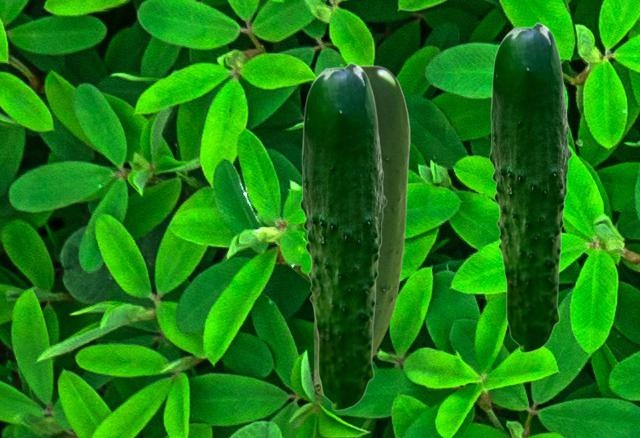cucumber: (313, 65, 409, 395), (299, 62, 386, 410), (488, 22, 571, 352)
